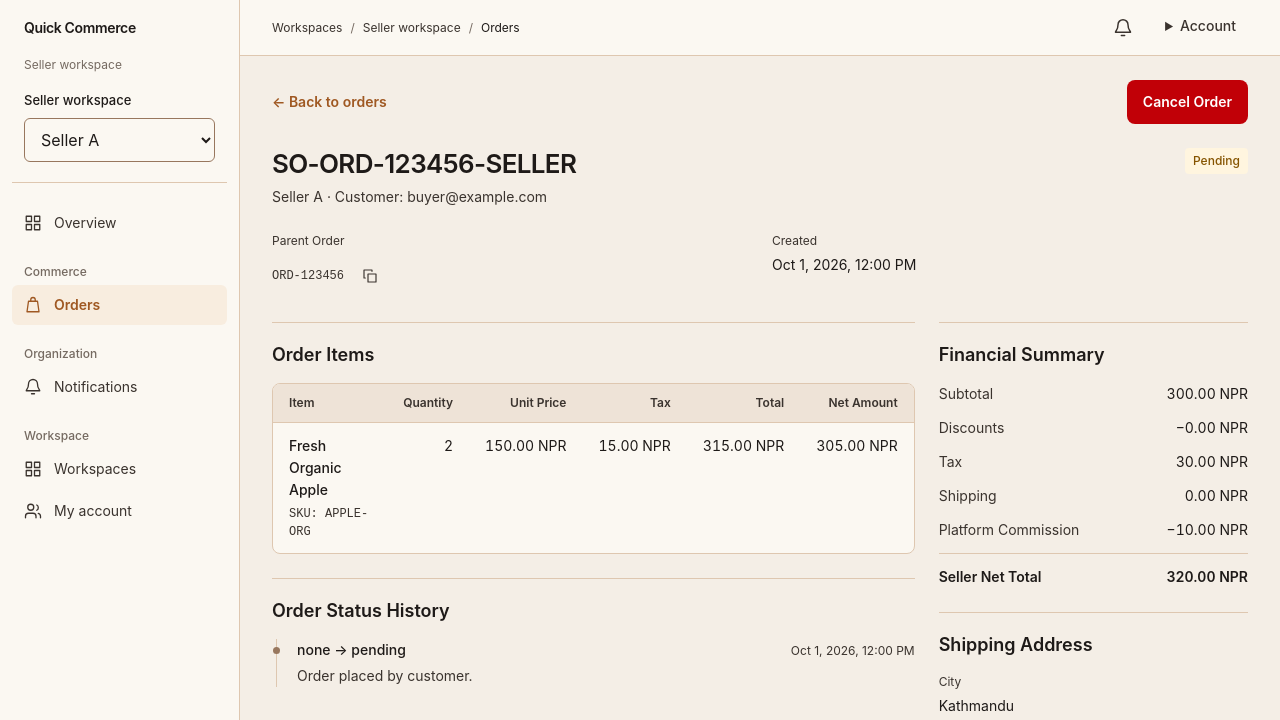
Scenario: Orders UI and permissions › allows cancelling an order with a reason
Click the button "Cancel Order" at [1187, 102], box left=1127, top=80, right=1248, bottom=124
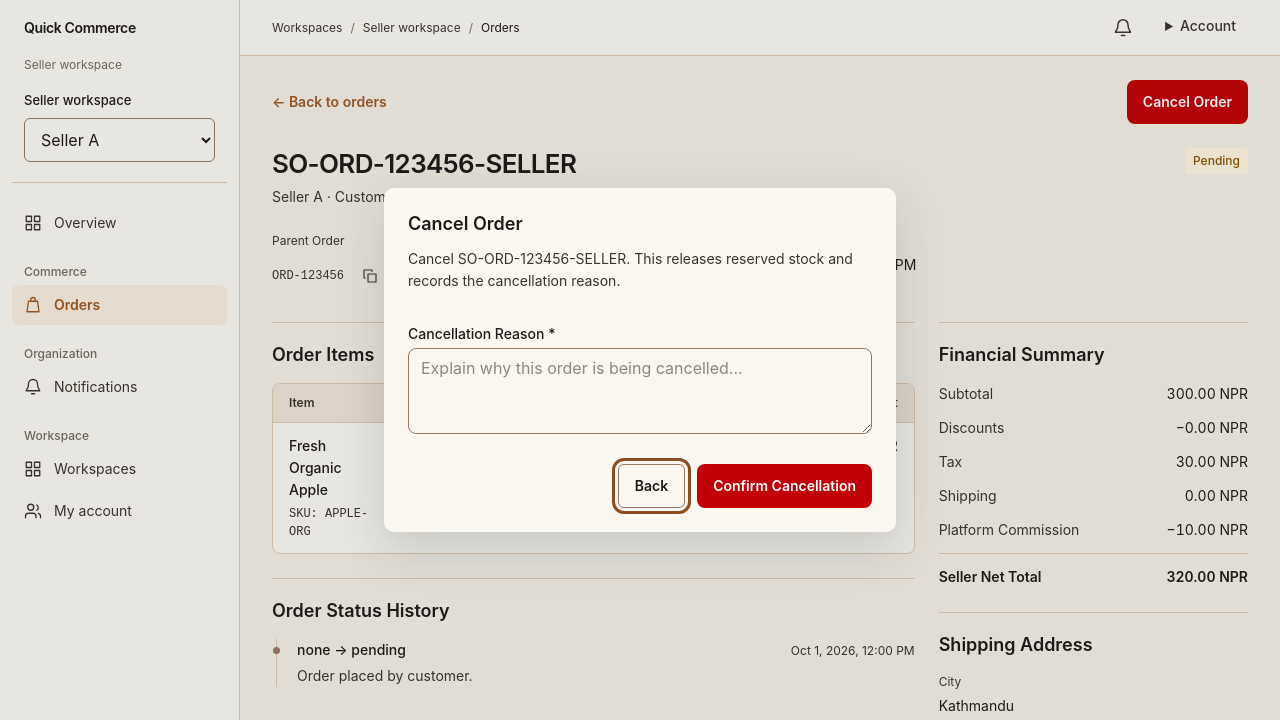
Result: the text "Cancellation Reason *" is shown at left=408, top=325, right=556, bottom=342
Type "Buyer requested cancellation" into the text box with placeholder "Explain why this order is being cancelled..." at [640, 391], box left=408, top=348, right=872, bottom=434
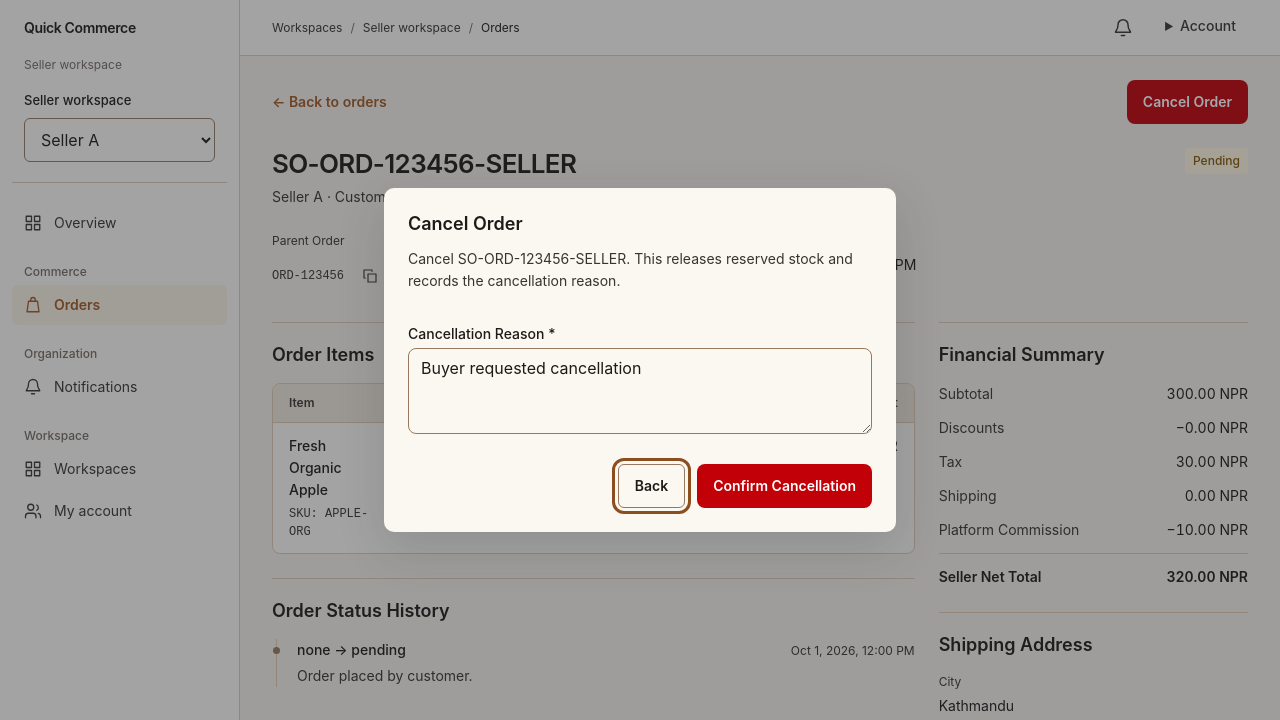
Click the button "Confirm Cancellation" at [785, 486], box left=697, top=464, right=872, bottom=508
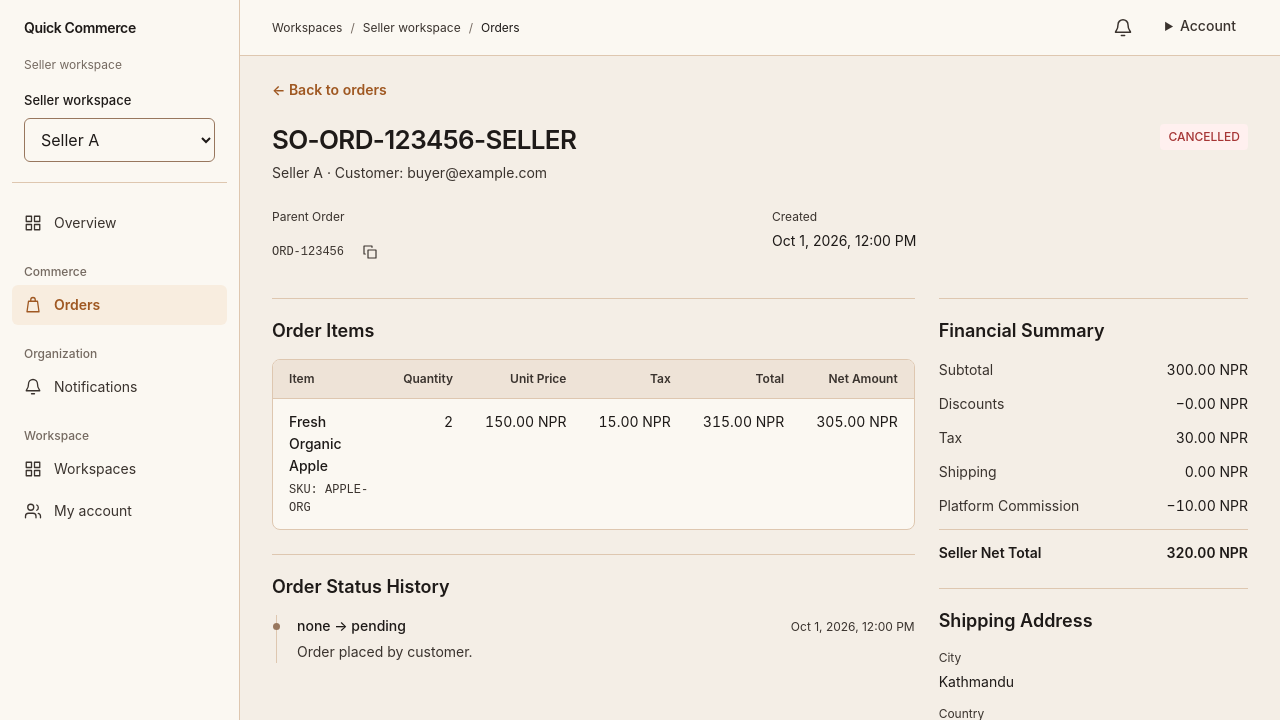
Result: the text "CANCELLED" is shown at left=1160, top=124, right=1248, bottom=150
